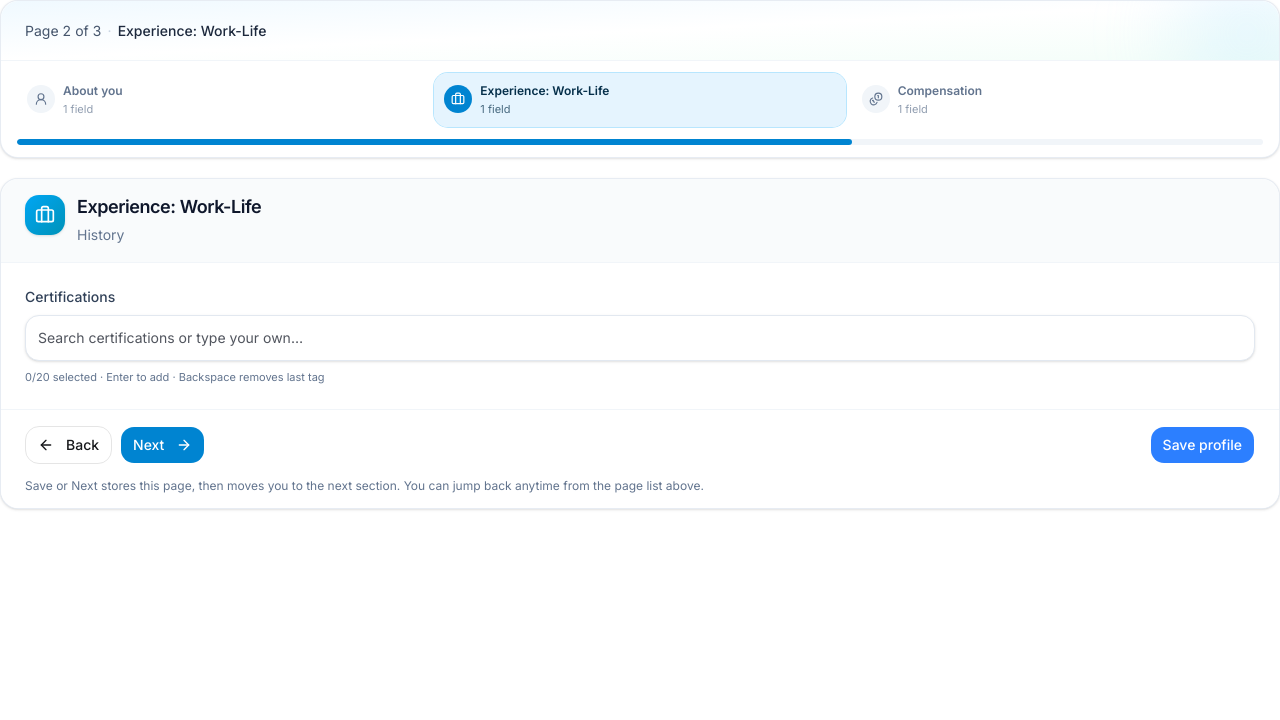
Test: CandidateProfileForm wizard › saves then moves to the next page after Save profile on Compensation
Expected: the heading "Experience: Work-Life" is shown, [77,196,261,217]
Click the button "Save profile".
click(1202, 445)  # box [1150,426,1255,464]
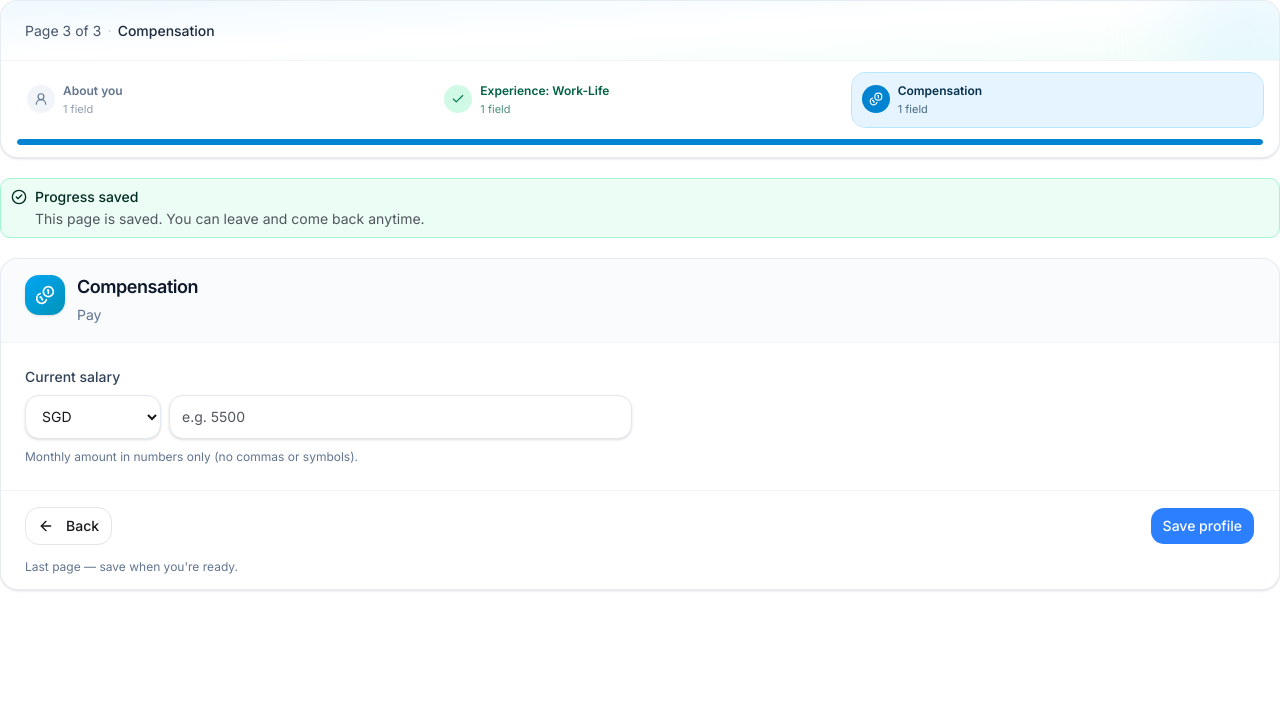
Result: the heading "Compensation" is shown at [77,276,198,297]
Result: the text "Page 3 of 3" is shown at [25,22,102,39]
